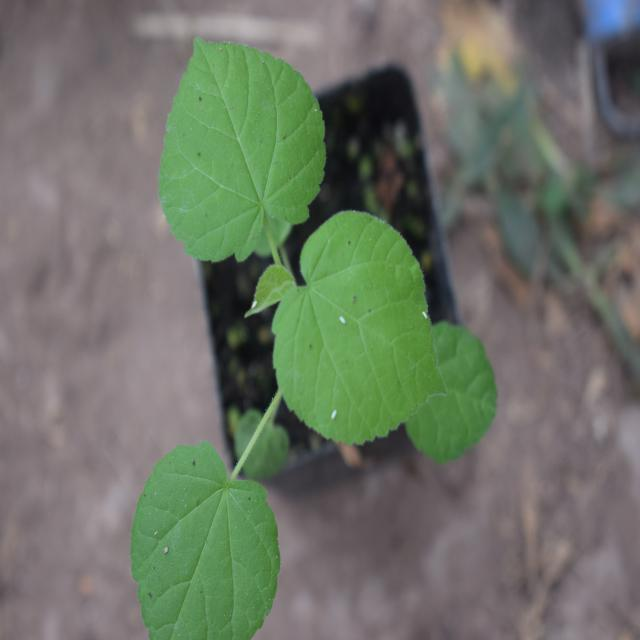abutilon theophrasti: (103, 15, 478, 619)
